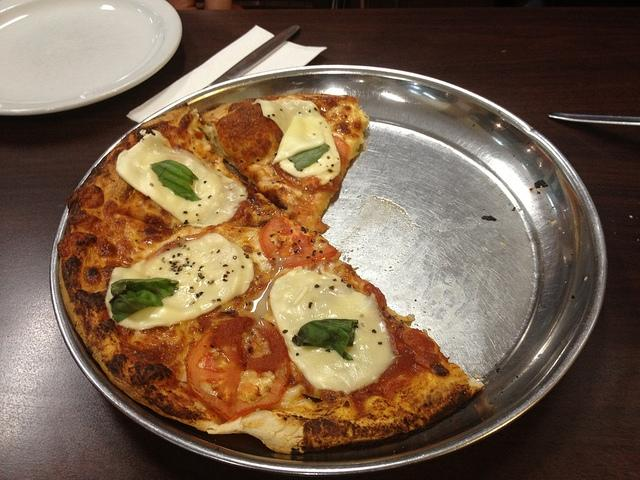tomato: (184, 317, 291, 421), (260, 217, 338, 269), (332, 134, 351, 166)
